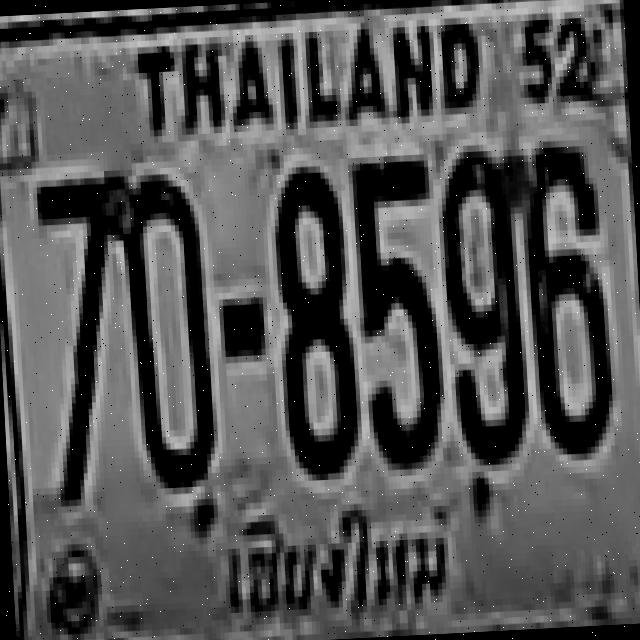0: (118, 169, 214, 486)
5: (349, 154, 442, 465)
6: (517, 138, 613, 450)
7: (34, 174, 131, 504), (34, 174, 125, 389)
8: (272, 162, 356, 472)
9: (436, 144, 528, 460)
ChiangMai: (205, 491, 462, 632)
